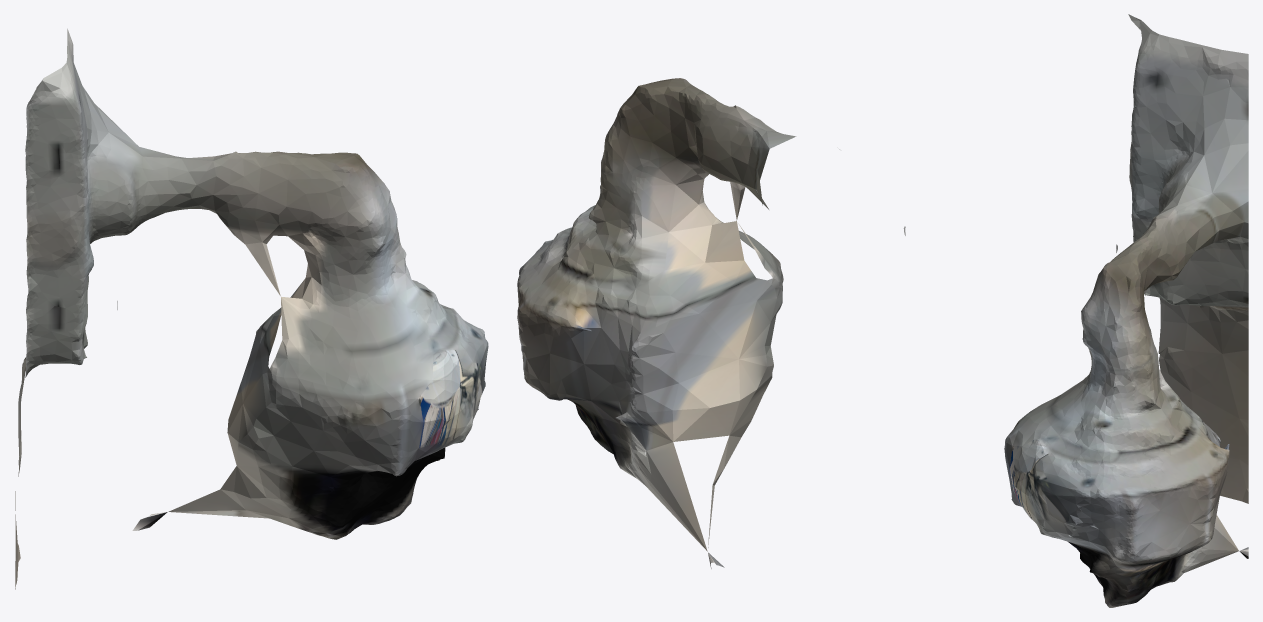
The model's file is Scaniverse 2023-02-11 175726(1).glb.
3 views of the same model, side by side, from view 1: azimuth 30°, elevation 25°; view 2: azimuth 150°, elevation 25°; view 3: azimuth 270°, elevation 25° (orthographic). The views are drawn at different scales.
Visible parts, largest first — view 1: mesh; view 2: mesh; view 3: mesh.
Boxes of the visible parts, <box> form: mesh: <box>15,28,488,589</box>; mesh: <box>517,78,905,568</box>; mesh: <box>1004,14,1248,607</box>.
Size of the model in its own units: 0.3366 by 0.3933 by 0.1862.
1 material, 1 textured.
